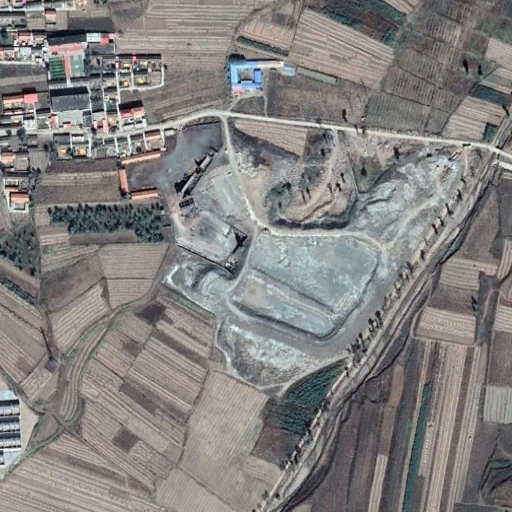tp: (167, 112, 485, 359)
